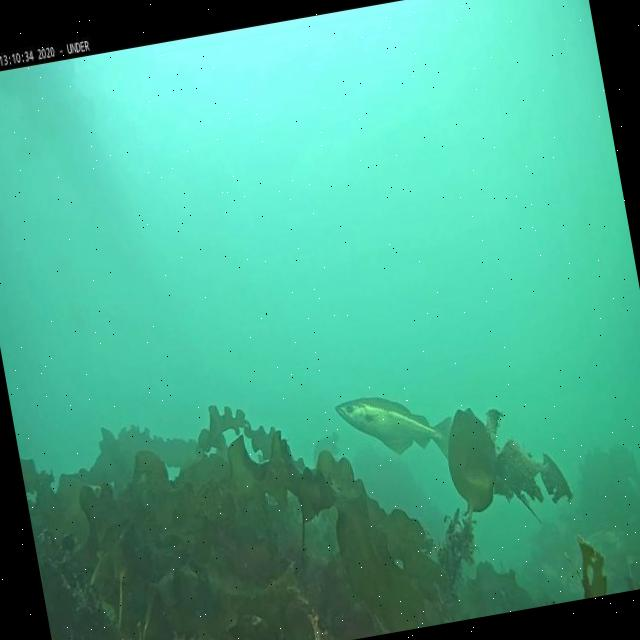fish: (332, 381, 455, 482)
